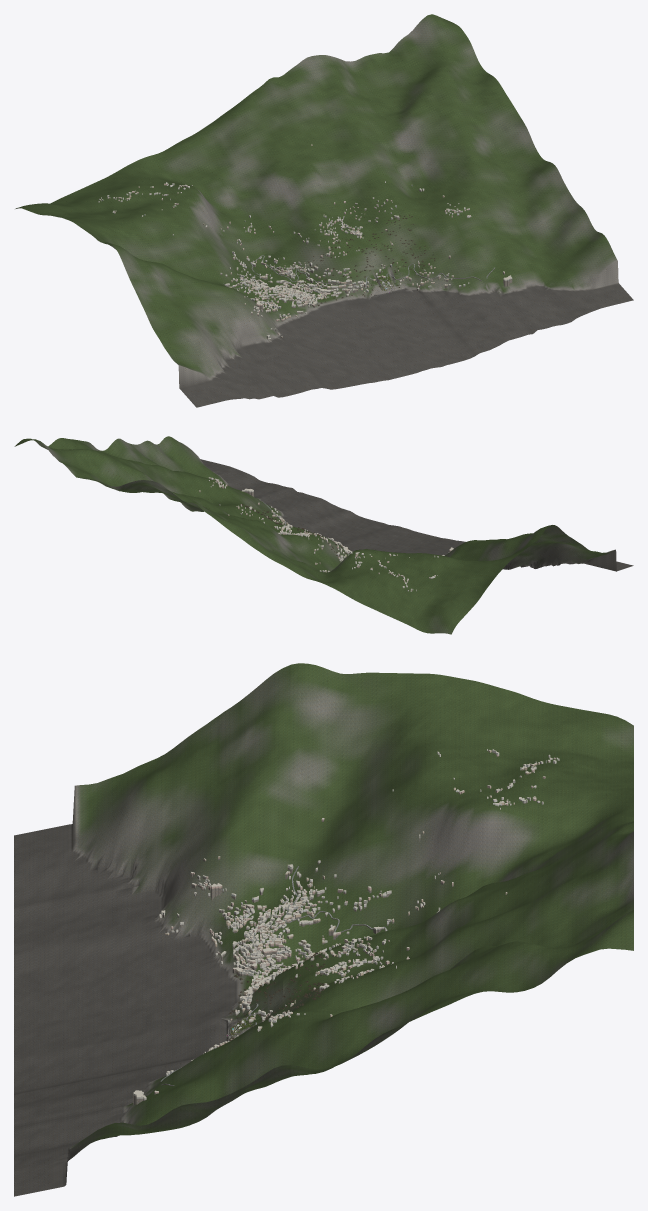
Rendered from la-fenice-study.glb.
The picture shows the model from 3 angles, top to bottom: view 1: azimuth 30°, elevation 25°; view 2: azimuth 150°, elevation 25°; view 3: azimuth 270°, elevation 25°; orthographic projection. The views are drawn at different scales.
Parts seen in each view (by area): view 1: Limestone headland, Limestone cliff, Positano plaster 0, Positano plaster 1, Positano plaster 2, Positano plaster 3, Positano plaster 4; view 2: Limestone headland, Positano plaster 0; view 3: Limestone headland, Limestone cliff, Positano plaster 1, Positano plaster 0, Positano plaster 3, Positano plaster 2, Positano plaster 4, Pine needle cutout.
Part boxes in pixels (<box>): Limestone headland: <box>15,14,633,407</box>; Limestone cliff: <box>101,145,512,340</box>; Positano plaster 0: <box>98,183,512,337</box>; Positano plaster 1: <box>101,181,470,339</box>; Positano plaster 2: <box>108,144,470,337</box>; Positano plaster 3: <box>100,183,504,334</box>; Positano plaster 4: <box>99,184,469,316</box>; Limestone headland: <box>14,436,633,634</box>; Positano plaster 0: <box>212,479,448,591</box>; Limestone headland: <box>14,663,633,1196</box>; Limestone cliff: <box>133,752,556,1104</box>; Positano plaster 1: <box>159,749,559,1075</box>; Positano plaster 0: <box>133,749,552,1099</box>; Positano plaster 3: <box>154,754,555,1093</box>; Positano plaster 2: <box>165,750,549,1061</box>; Positano plaster 4: <box>170,752,557,1072</box>; Pine needle cutout: <box>229,952,328,1040</box>.
Size of the model in its own units: 4095 by 1585 by 2960.
38 materials, 6 textured.
